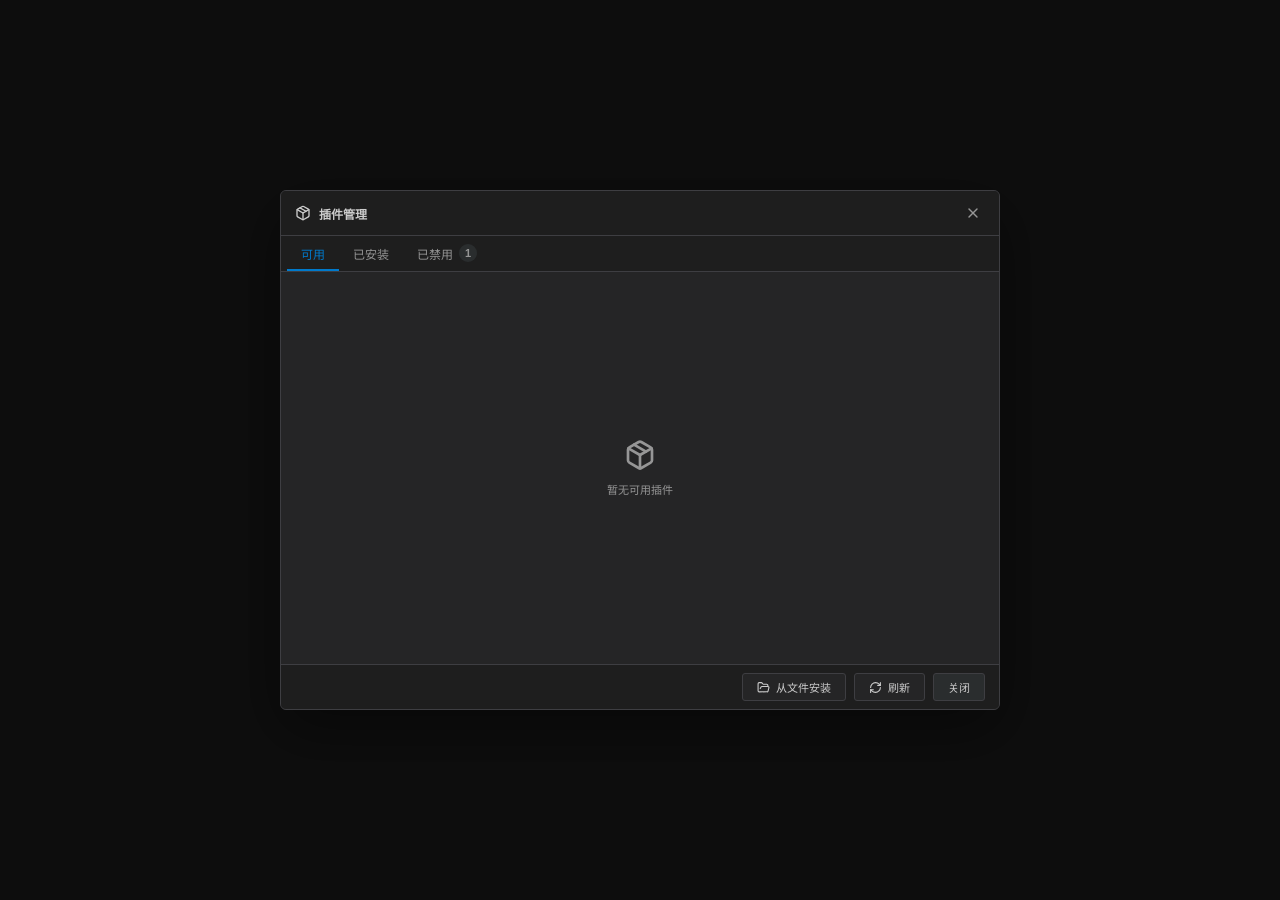
PluginManager › shows disabled plugins on the Disabled tab
Click the tab "已禁用 1" at [447, 254], box [403,236,491,271]
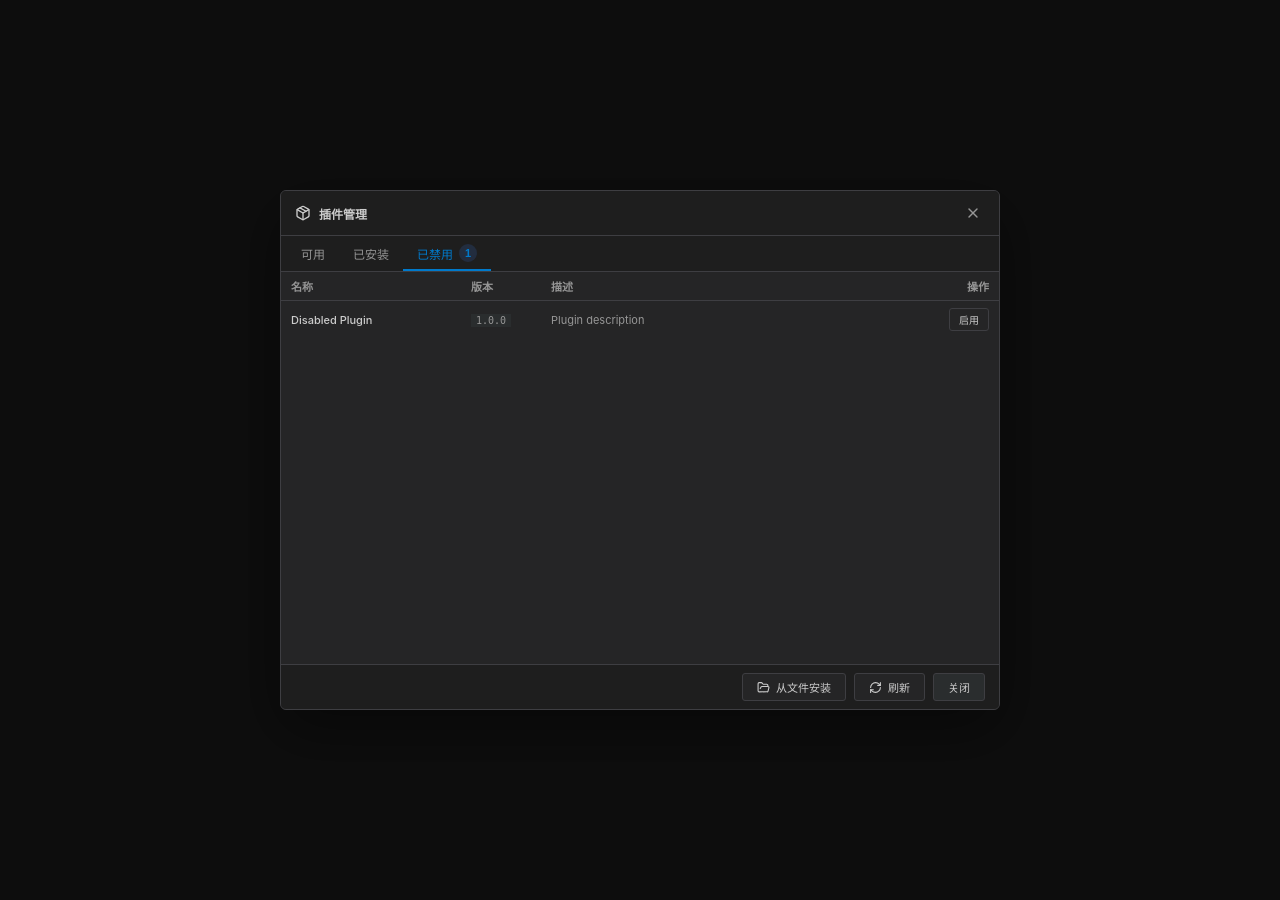
Now the text "Disabled Plugin" is shown, box [291,312,372,326]
Now the button titled "启用" is shown, box [949,308,989,331]
